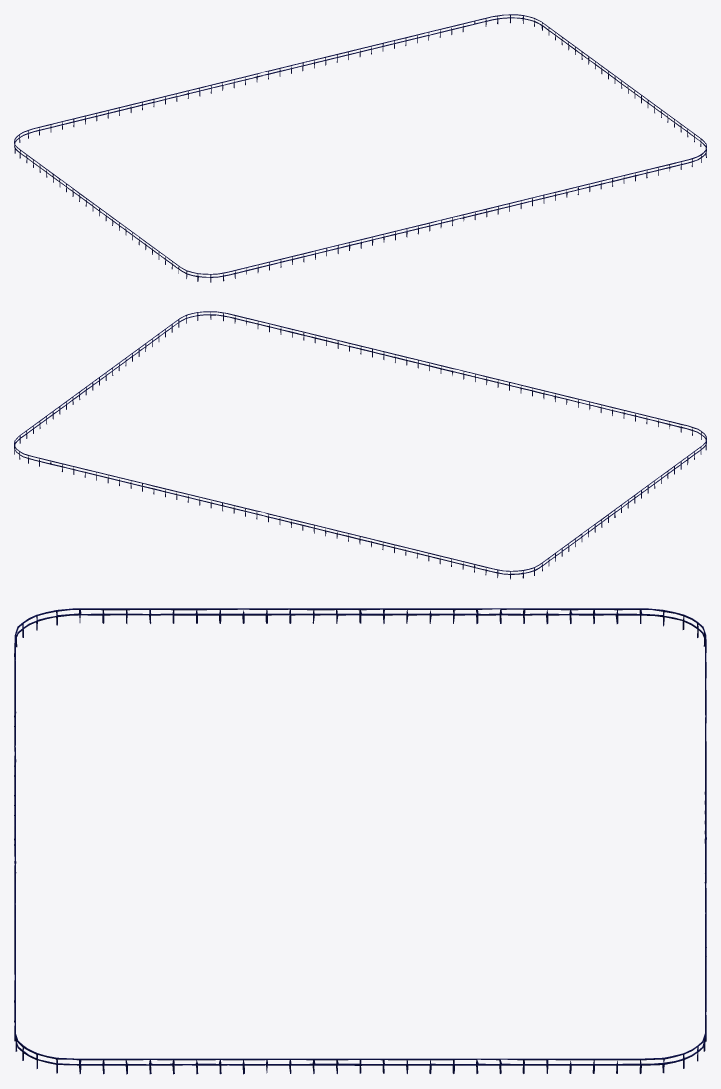
File: FloodLights_RoofRailing.FBX
3 views of the same model, one above another, from view 1: azimuth 30°, elevation 25°; view 2: azimuth 150°, elevation 25°; view 3: azimuth 270°, elevation 25° (orthographic). The views are drawn at different scales.
Parts seen in each view (by area): view 1: FloodLights_RoofRailing; view 2: FloodLights_RoofRailing; view 3: FloodLights_RoofRailing.
Boxes of the visible parts, bbox=[...] form: FloodLights_RoofRailing: bbox=[14, 14, 706, 282]; FloodLights_RoofRailing: bbox=[14, 311, 706, 579]; FloodLights_RoofRailing: bbox=[14, 608, 706, 1074].
Bounding box in the file's own units: 17874 × 11602 × 324.
